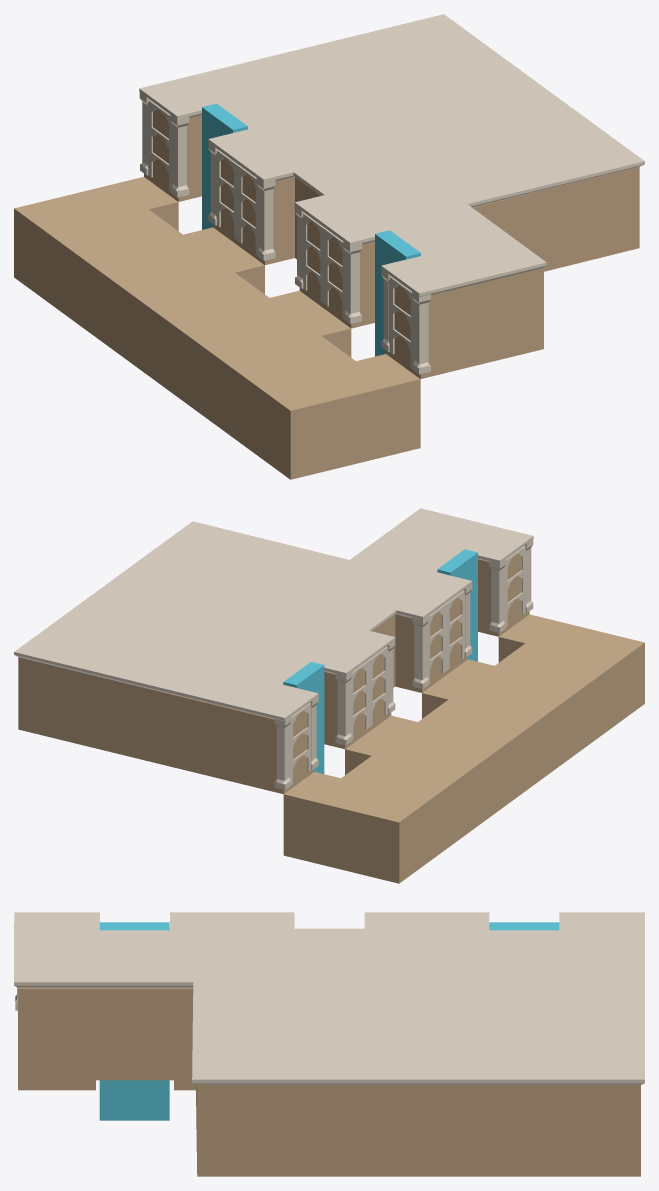
Rendered from wallsd.fbx.
3 views of the same model, one above another, from view 1: azimuth 30°, elevation 25°; view 2: azimuth 150°, elevation 25°; view 3: azimuth 270°, elevation 25° (orthographic). The views are drawn at different scales.
Parts seen in each view (by area): view 1: walls.013; view 2: walls.013; view 3: walls.013.
Boxes of the visible parts, left/top/right/bottom form: walls.013: left=14, top=14, right=644, bottom=479; walls.013: left=14, top=508, right=644, bottom=883; walls.013: left=14, top=912, right=644, bottom=1176.
Bounding box in the file's own units: 9262 × 3533 × 10411.
